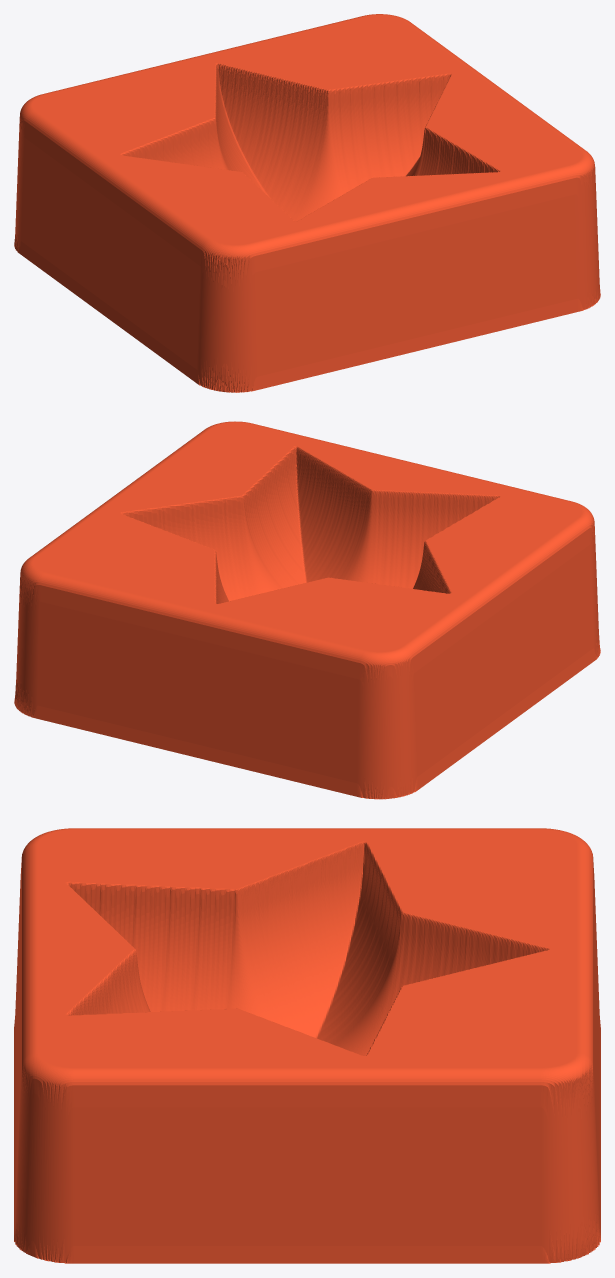
The model's file is mold.glb.
3 renders of one model, top to bottom at view 1: azimuth 30°, elevation 25°; view 2: azimuth 150°, elevation 25°; view 3: azimuth 270°, elevation 25°, orthographic. The views are drawn at different scales.
Parts seen in each view (by area): view 1: geometry_0; view 2: geometry_0; view 3: geometry_0.
Part boxes in pixels (left/top/right/bottom): geometry_0: left=14, top=14, right=600, bottom=392; geometry_0: left=14, top=421, right=600, bottom=799; geometry_0: left=14, top=828, right=600, bottom=1263.
Bounding box in the file's own units: 0.0924 × 0.031 × 0.0888.
